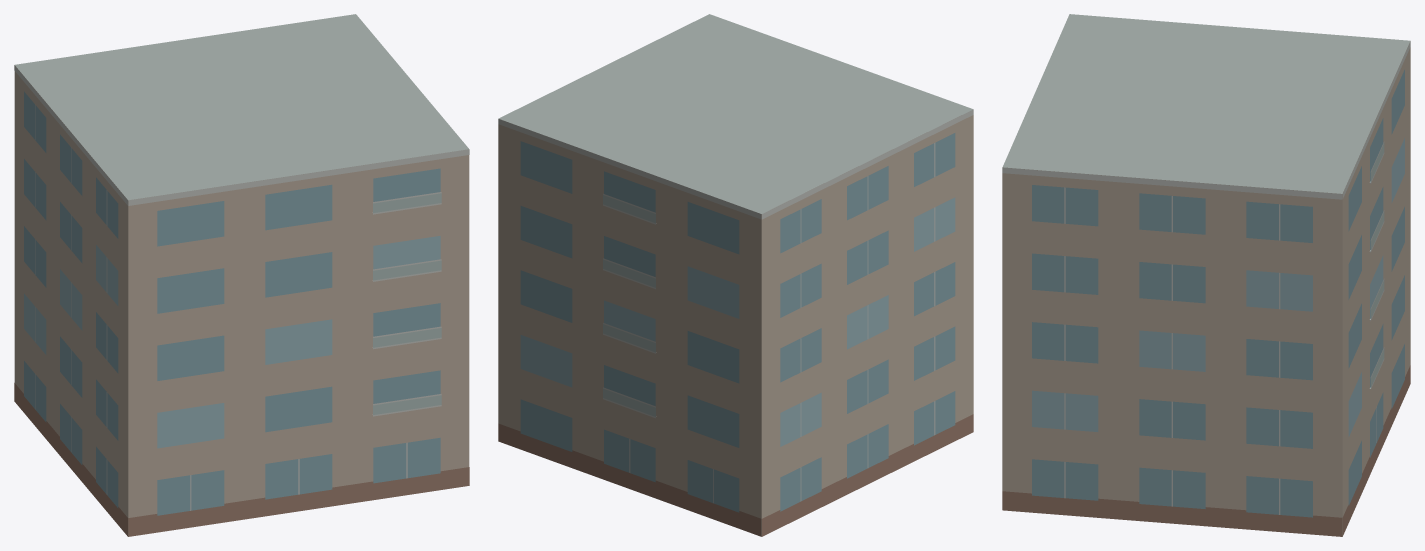
The model's file is survey-upis-32706186.glb.
3 views of the same model, side by side, from view 1: azimuth 30°, elevation 25°; view 2: azimuth 150°, elevation 25°; view 3: azimuth 270°, elevation 25° (orthographic). The views are drawn at different scales.
Visible parts, largest first — view 1: survey-upis-32706186.tmp; view 2: survey-upis-32706186.tmp; view 3: survey-upis-32706186.tmp.
Part boxes in pixels (bbox=[...]): survey-upis-32706186.tmp: bbox=[14, 14, 469, 536]; survey-upis-32706186.tmp: bbox=[498, 14, 973, 536]; survey-upis-32706186.tmp: bbox=[1002, 14, 1410, 536].
Bounding box in the file's own units: 16.21 × 14.4 × 15.54.
